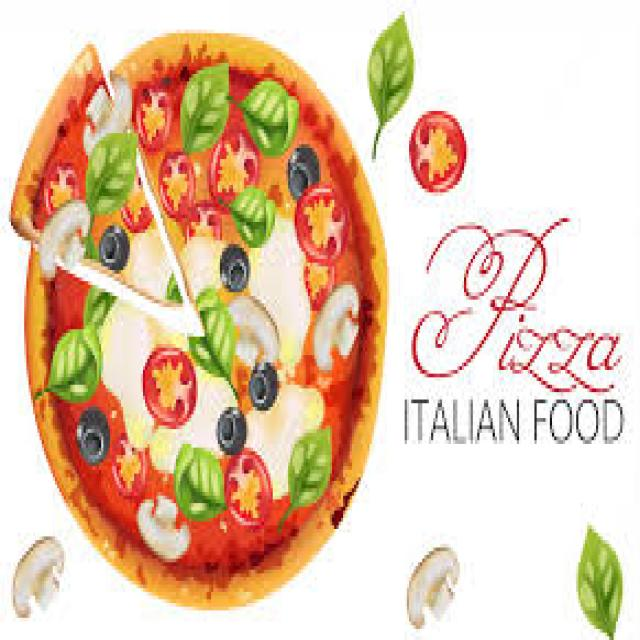피자: (21, 15, 385, 622)
